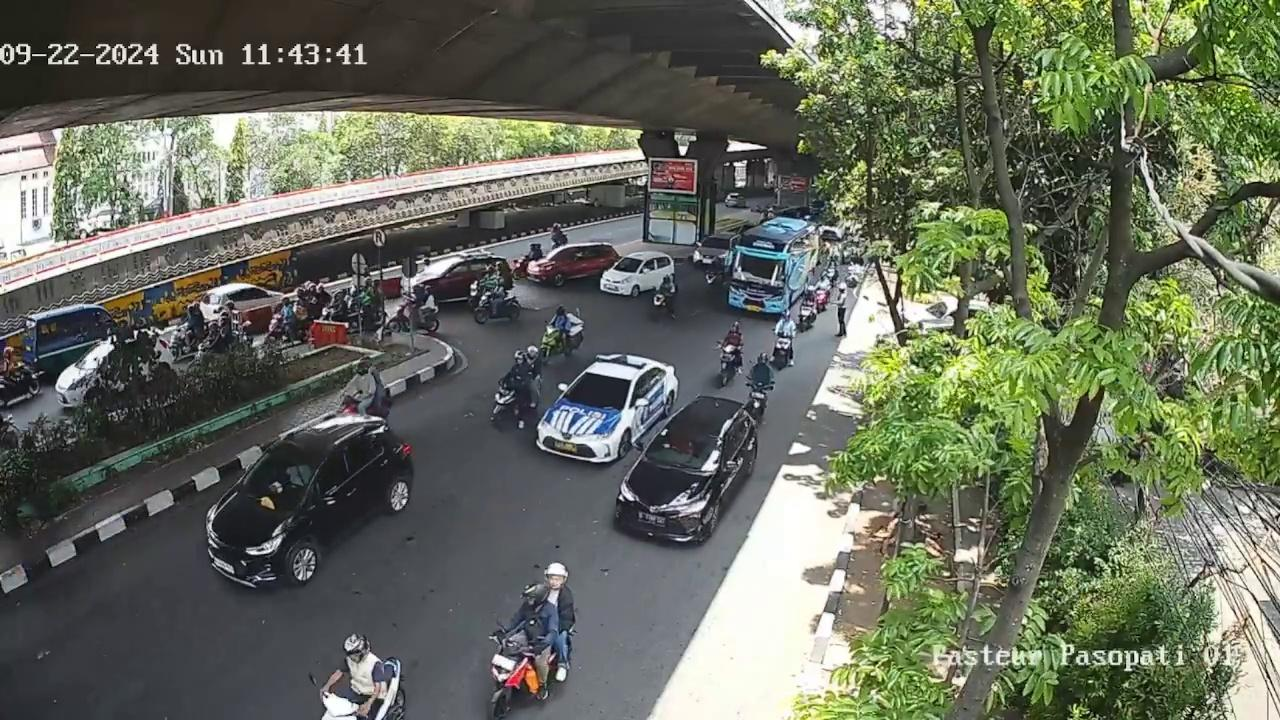pakai: (285, 461, 310, 490)
tidak-pakai: (667, 433, 694, 458)
windshield: (241, 448, 317, 516), (645, 427, 723, 471), (565, 374, 630, 409), (616, 256, 643, 272)
